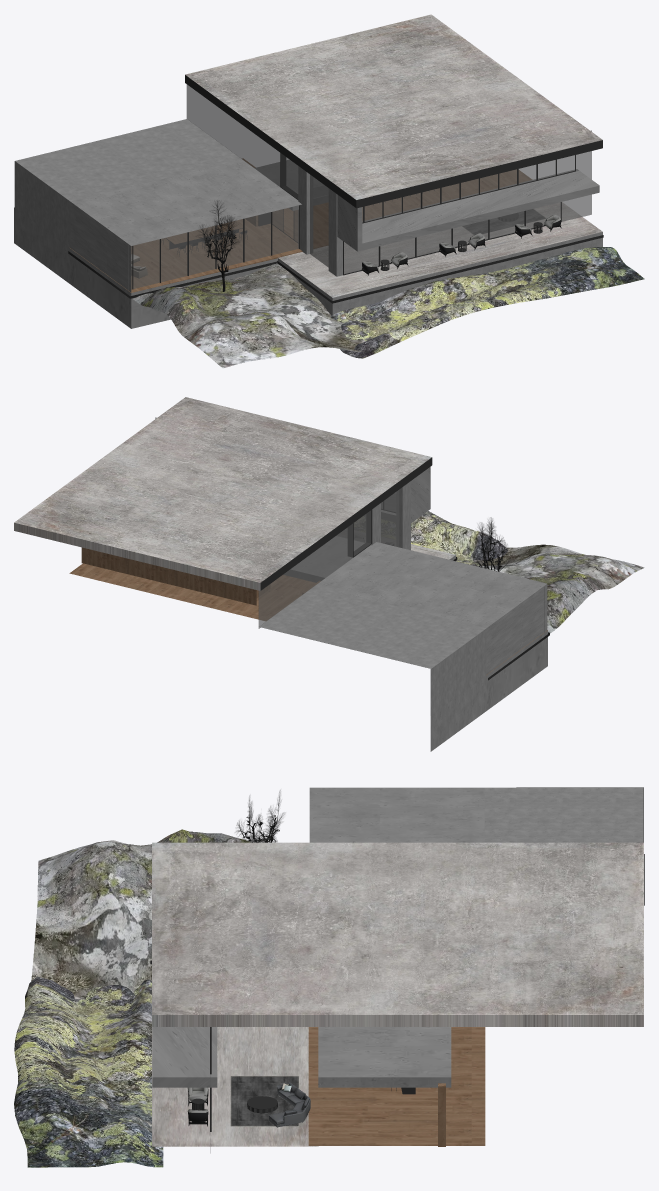
The model's file is apt_villa.glb.
The picture shows the model from 3 angles, top to bottom: view 1: azimuth 30°, elevation 25°; view 2: azimuth 150°, elevation 25°; view 3: azimuth 270°, elevation 25°; orthographic projection. The views are drawn at different scales.
Parts seen in each view (by area): view 1: villa; view 2: villa; view 3: villa.
Boxes of the visible parts, x1,y1,x2,y2 form: villa: [14, 14, 644, 368]; villa: [14, 397, 644, 751]; villa: [14, 787, 644, 1167].
Size of the model in its own units: 47.32 by 13.3 by 41.37.
Materials: 13 (11 with a texture image).
